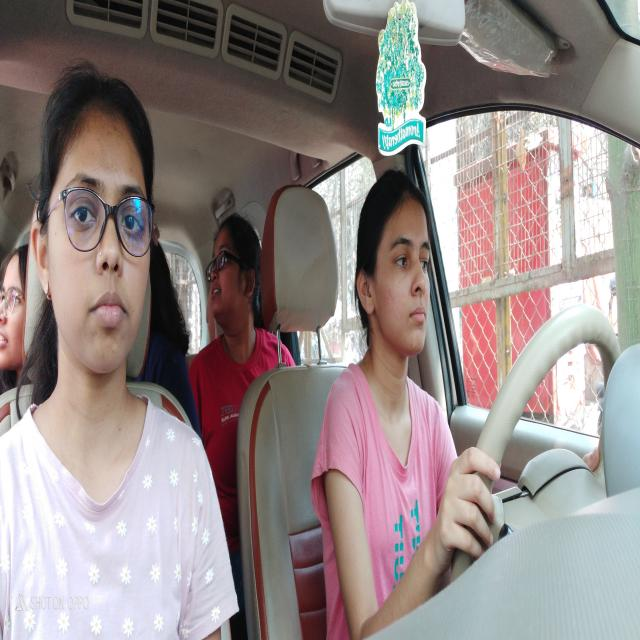person: (56, 89, 154, 374), (361, 175, 432, 354), (207, 230, 251, 326), (0, 248, 25, 366)
